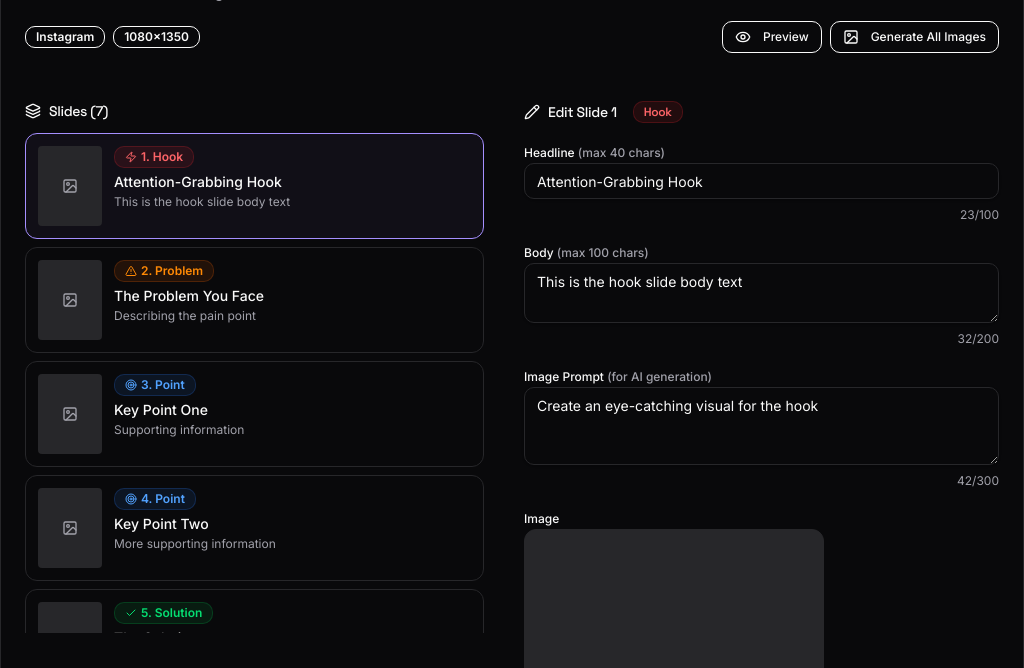
Scenario: CarouselBuilder - Preview & Export › displays carousel preview with navigation in preview mode
Expected: the text "Attention-Grabbing Hook" is shown, [114,173,282,190]
Note: Switch to preview mode
Click the button "Preview".
click(772, 37)  # box [722,21,822,53]
(page scrolled)
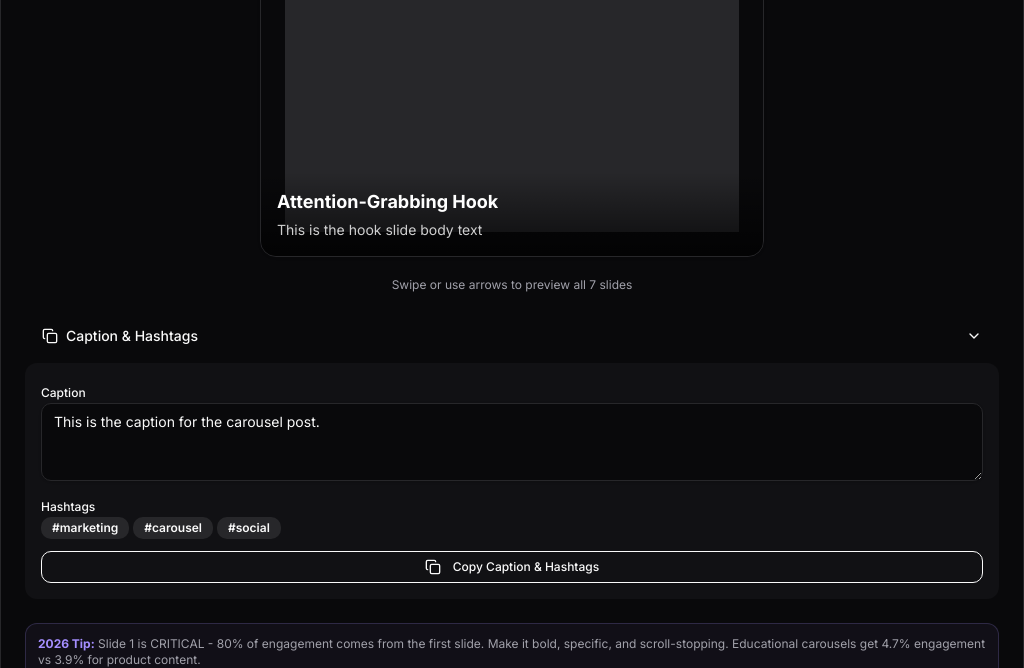
Result: the text "Swipe or use arrows to preview all 7 slides" is shown at [392,276,632,292]
